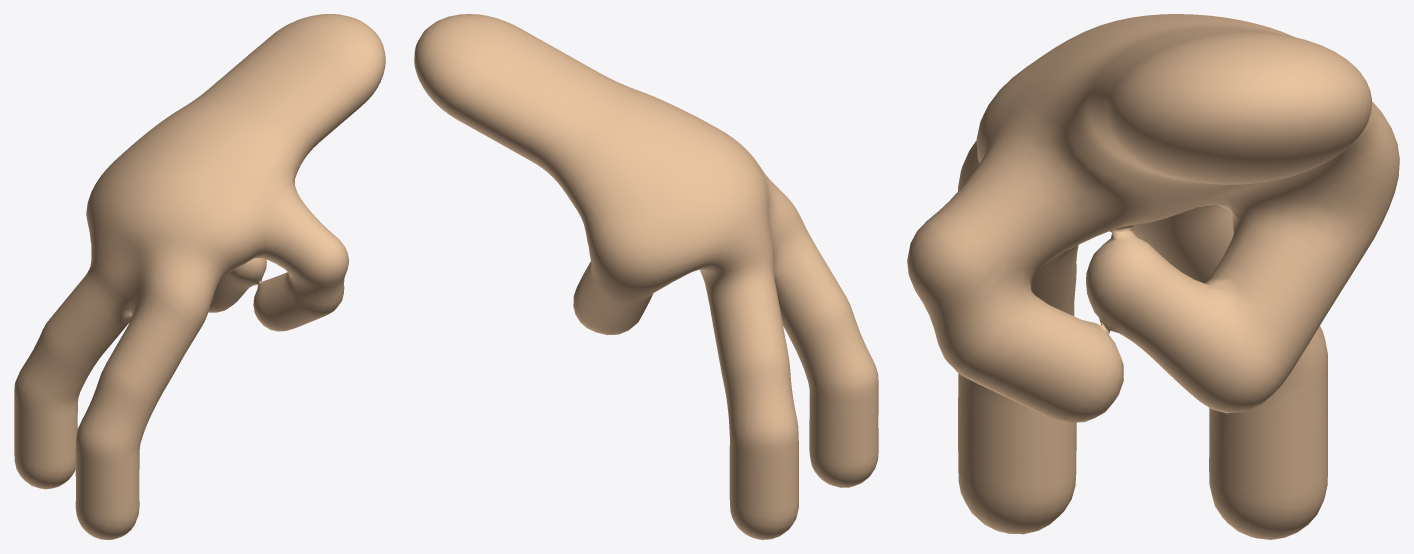
File: 2doigts.glb
3 views of the same model, side by side, from view 1: azimuth 30°, elevation 25°; view 2: azimuth 150°, elevation 25°; view 3: azimuth 270°, elevation 25° (orthographic). The views are drawn at different scales.
Parts seen in each view (by area): view 1: Mball.011; view 2: Mball.011; view 3: Mball.011.
Boxes of the visible parts, x1=… form: Mball.011: x1=14, y1=14, x2=385, y2=539; Mball.011: x1=414, y1=14, x2=878, y2=539; Mball.011: x1=907, y1=14, x2=1399, y2=539.
Bounding box in the file's own units: 6.58 × 7.07 × 4.25.
